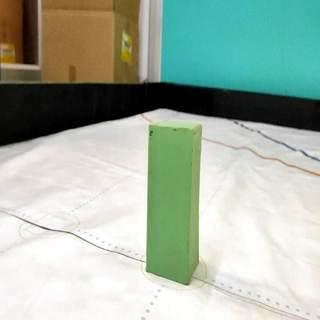greenbox: (144, 118, 203, 286)
